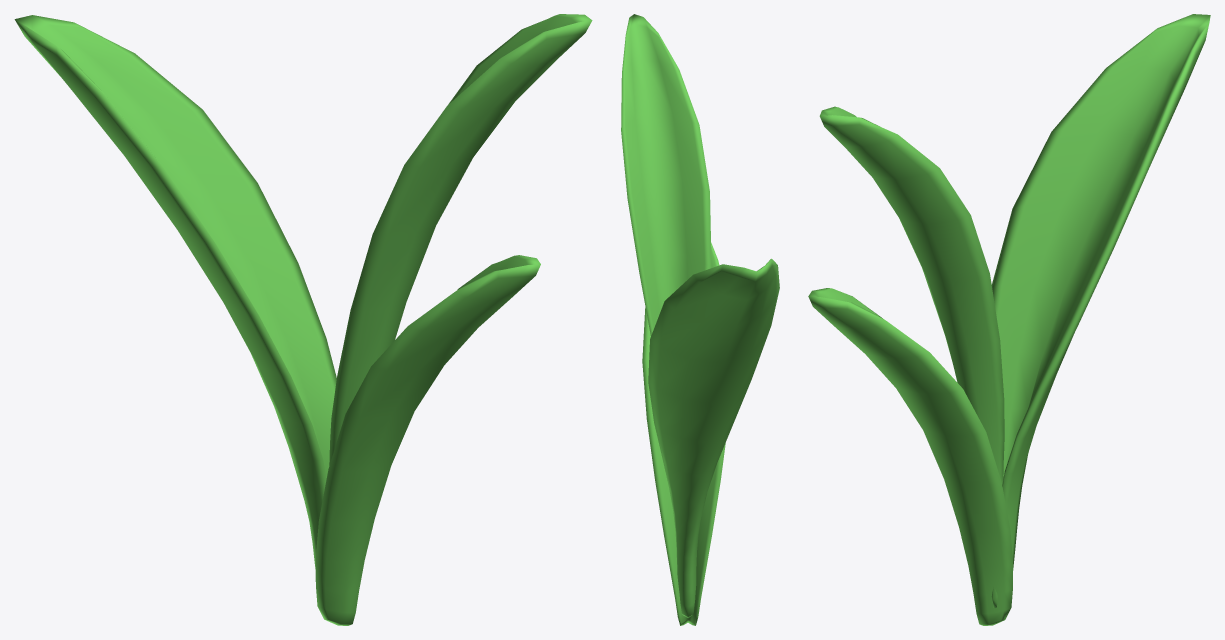
File: CornSmall_single.fbx
The picture shows the model from 3 angles, left to right: view 1: azimuth 30°, elevation 25°; view 2: azimuth 150°, elevation 25°; view 3: azimuth 270°, elevation 25°; orthographic projection. The views are drawn at different scales.
Parts seen in each view (by area): view 1: CornSmall_single; view 2: CornSmall_single; view 3: CornSmall_single.
Boxes of the visible parts, left/top/right/bottom form: CornSmall_single: left=14, top=14, right=592, bottom=625; CornSmall_single: left=621, top=14, right=779, bottom=625; CornSmall_single: left=808, top=14, right=1210, bottom=625.
Size of the model in its own units: 32.05 by 53.38 by 33.6.
